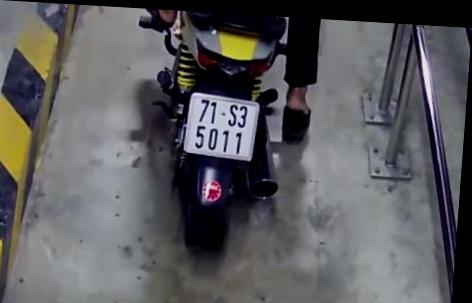License_Plate: (180, 88, 264, 168)
